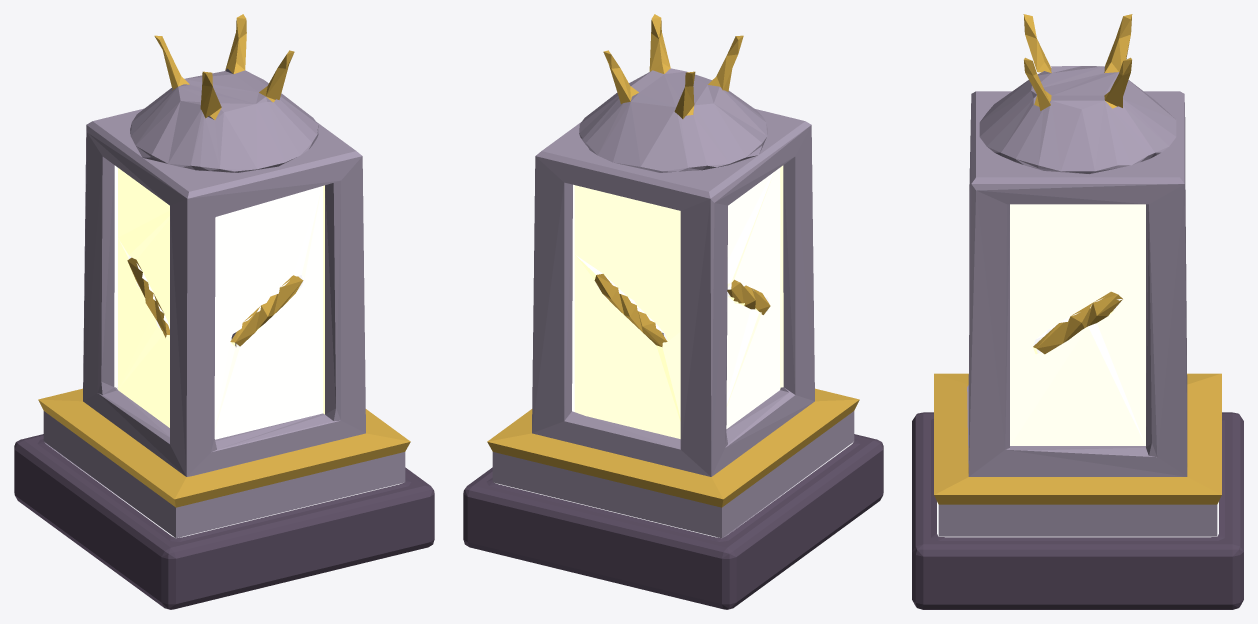
The model's file is ward_pillar.glb.
3 renders of one model, left to right at view 1: azimuth 30°, elevation 25°; view 2: azimuth 150°, elevation 25°; view 3: azimuth 270°, elevation 25°, orthographic. The views are drawn at different scales.
Parts seen in each view (by area): view 1: ward_pillar; view 2: ward_pillar; view 3: ward_pillar.
Boxes of the visible parts, <box> form: ward_pillar: <box>14,14,434,609</box>; ward_pillar: <box>463,14,883,609</box>; ward_pillar: <box>912,14,1243,609</box>.
Bounding box in the file's own units: 1.1 × 1.86 × 1.1.
